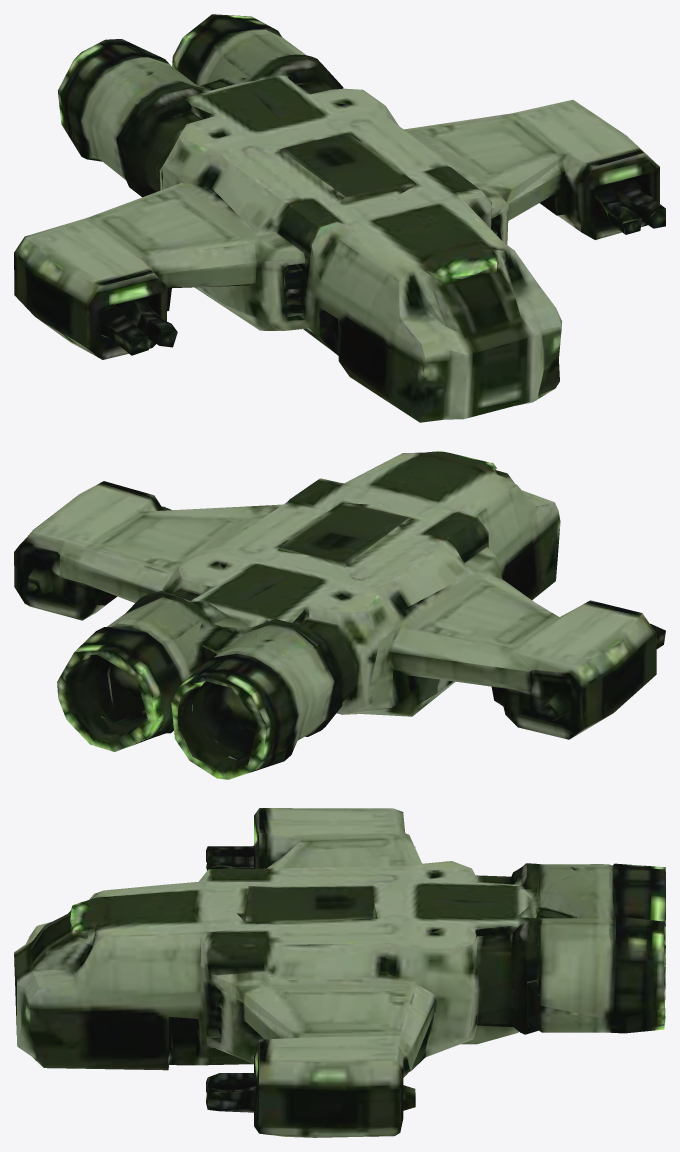
The model's file is enemy-heavy-s7.glb.
3 renders of one model, top to bottom at view 1: azimuth 30°, elevation 25°; view 2: azimuth 150°, elevation 25°; view 3: azimuth 270°, elevation 25°, orthographic. The views are drawn at different scales.
Parts seen in each view (by area): view 1: 9adbb147-c497-479b-8c6b-6f7a91005b4a_texturing.obj; view 2: 9adbb147-c497-479b-8c6b-6f7a91005b4a_texturing.obj; view 3: 9adbb147-c497-479b-8c6b-6f7a91005b4a_texturing.obj.
Boxes of the visible parts, x1,y1,x2,y2 form: 9adbb147-c497-479b-8c6b-6f7a91005b4a_texturing.obj: (14,14,665,422); 9adbb147-c497-479b-8c6b-6f7a91005b4a_texturing.obj: (14,451,665,779); 9adbb147-c497-479b-8c6b-6f7a91005b4a_texturing.obj: (14,808,665,1137).
Size of the model in its own units: 1.99 by 0.486 by 1.99.
1 material, 1 textured.
